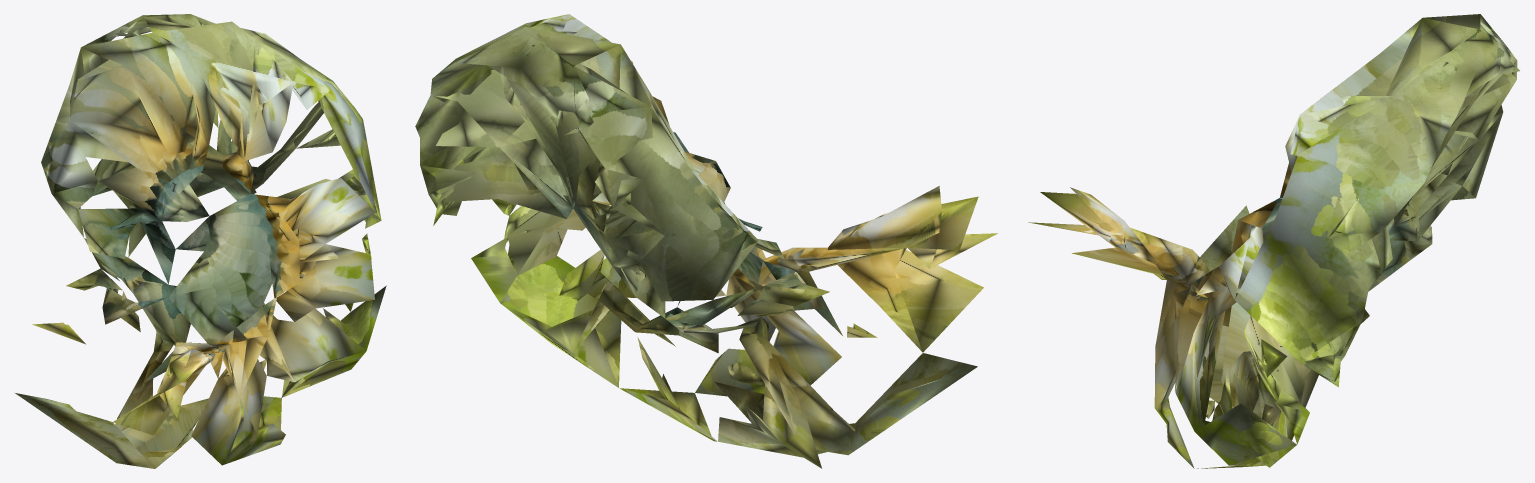
File: zombie_nautilus_single_1500.glb
3 views of the same model, side by side, from view 1: azimuth 30°, elevation 25°; view 2: azimuth 150°, elevation 25°; view 3: azimuth 270°, elevation 25° (orthographic). The views are drawn at different scales.
Size of the model in its own units: 0.6368 by 0.568 by 0.5651.
Materials: 1 (1 with a texture image).
